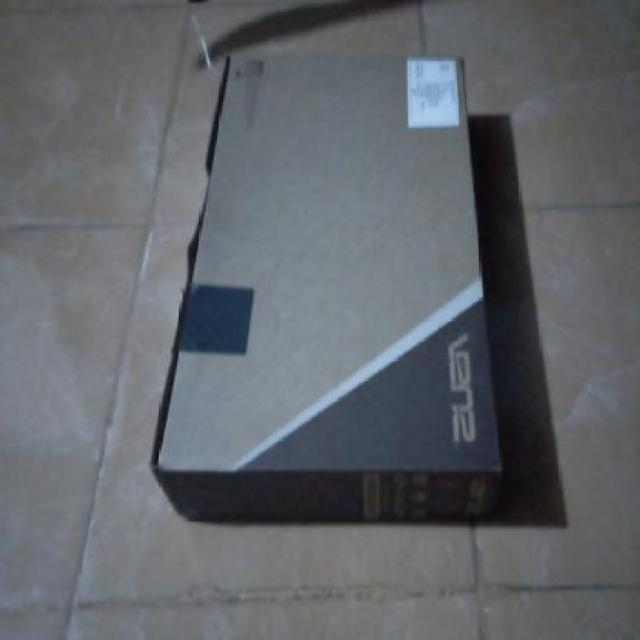cardboxes: (142, 36, 516, 539)
